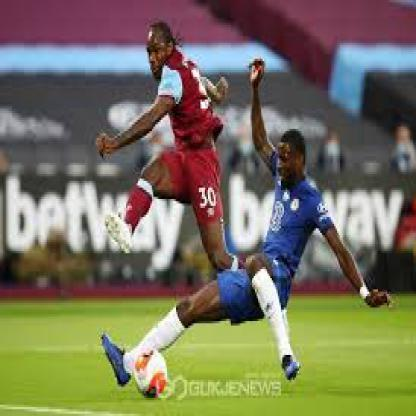Fall_Down: (100, 54, 395, 391)
